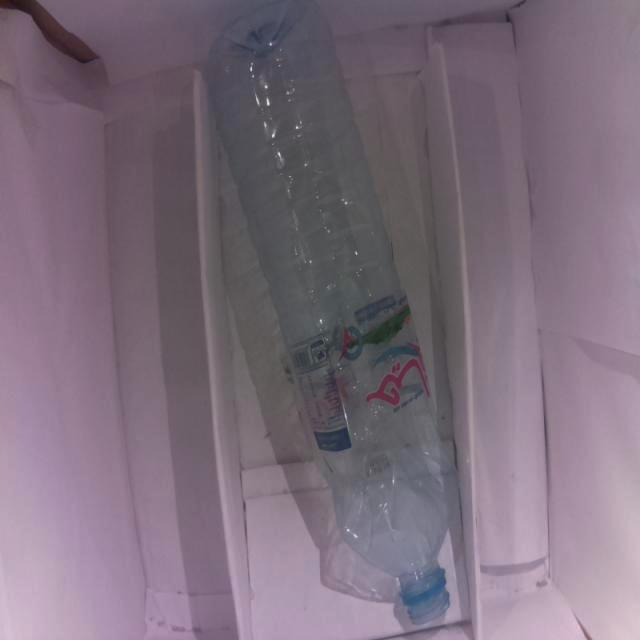bottle: (198, 3, 460, 627)
